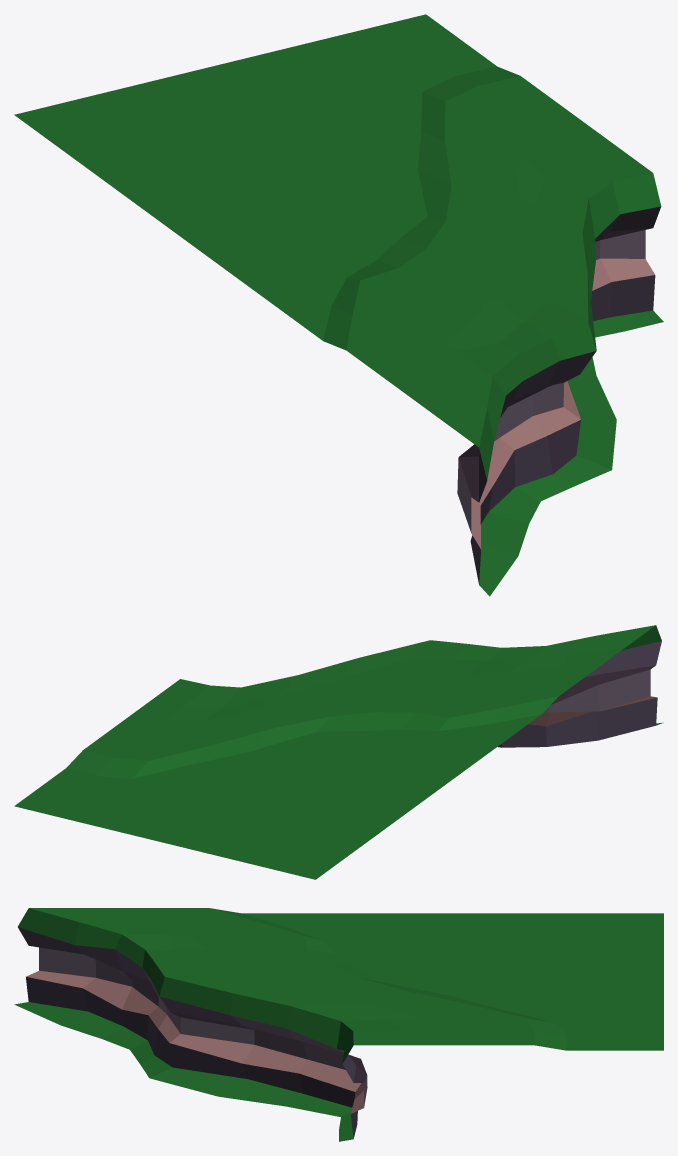
Rendered from Barranco_a_Cesped_Chanfle_DI.fbx.
3 views of the same model, one above another, from view 1: azimuth 30°, elevation 25°; view 2: azimuth 150°, elevation 25°; view 3: azimuth 270°, elevation 25° (orthographic). The views are drawn at different scales.
Parts seen in each view (by area): view 1: Barranco_a_Cesped_Chanfle_DI; view 2: Barranco_a_Cesped_Chanfle_DI; view 3: Barranco_a_Cesped_Chanfle_DI.
Boxes of the visible parts, x1,y1,x2,y2 form: Barranco_a_Cesped_Chanfle_DI: [14, 14, 663, 596]; Barranco_a_Cesped_Chanfle_DI: [14, 625, 663, 879]; Barranco_a_Cesped_Chanfle_DI: [14, 908, 663, 1141].
Size of the model in its own units: 2000 by 662 by 4000.
